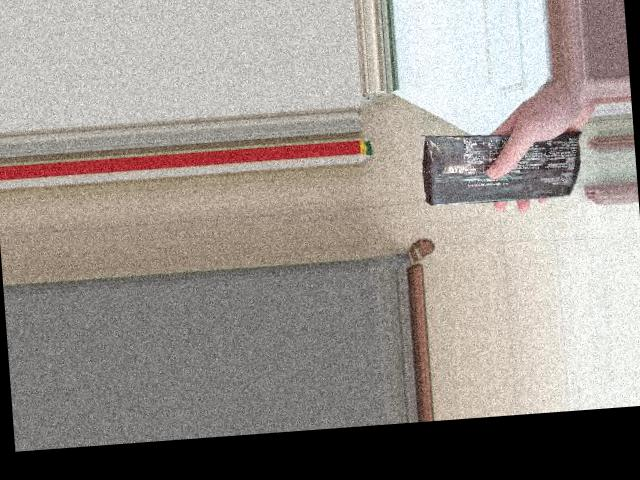chocolate: (414, 125, 583, 208)
